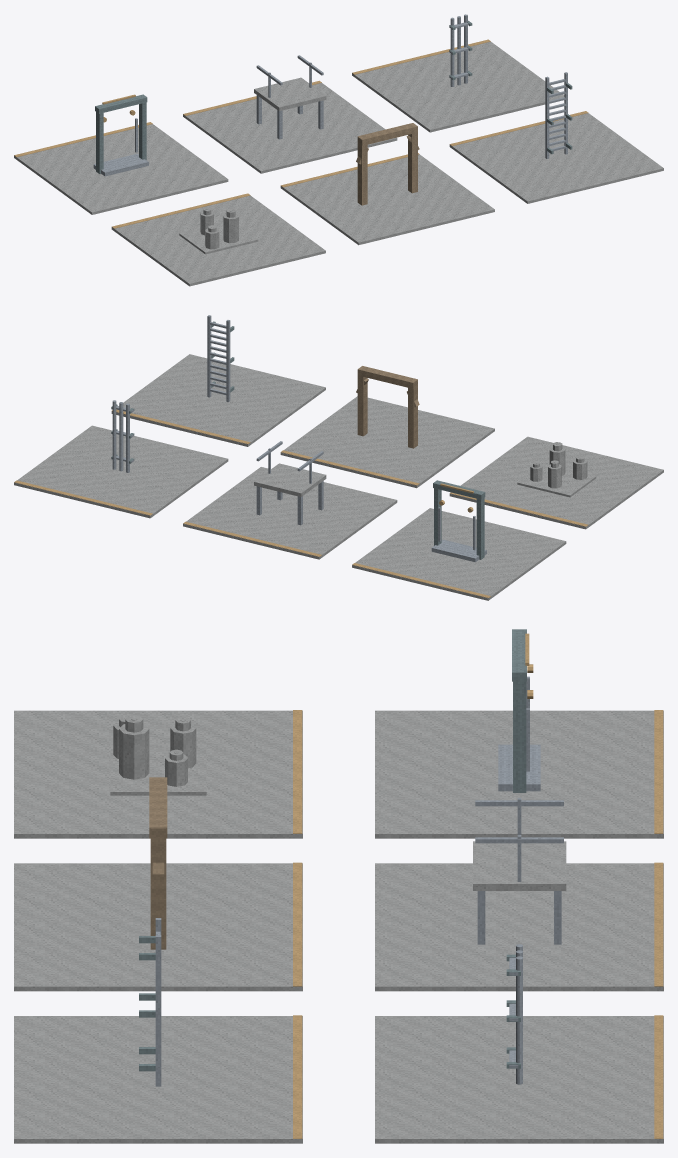
The model's file is level_blockout_kit_wld_18_p05.glb.
The picture shows the model from 3 angles, top to bottom: view 1: azimuth 30°, elevation 25°; view 2: azimuth 150°, elevation 25°; view 3: azimuth 270°, elevation 25°; orthographic projection. The views are drawn at different scales.
Visible parts, largest first — view 1: level_blockout_kit_wld_18_p05; view 2: level_blockout_kit_wld_18_p05; view 3: level_blockout_kit_wld_18_p05.
Part boxes in pixels (left/top/right/bottom): level_blockout_kit_wld_18_p05: left=14, top=14, right=663, bottom=286; level_blockout_kit_wld_18_p05: left=14, top=315, right=663, bottom=600; level_blockout_kit_wld_18_p05: left=14, top=629, right=663, bottom=1143.
Bounding box in the file's own units: 19.65 × 3.31 × 12.6.
5 materials, 5 textured.
